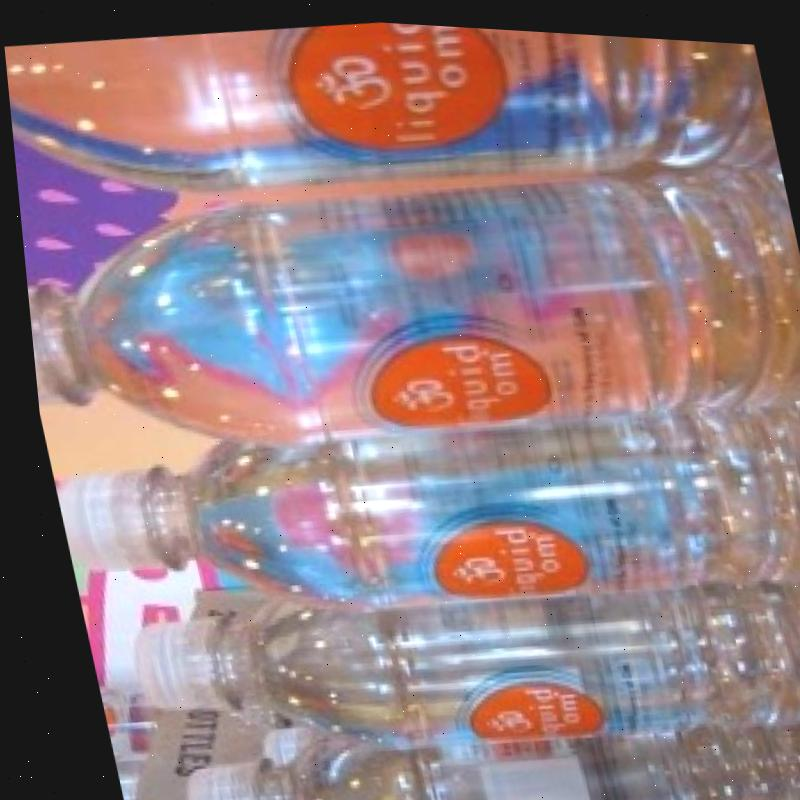botella: (8, 112, 800, 486), (31, 351, 800, 647), (0, 0, 784, 249), (104, 514, 800, 783), (148, 663, 800, 800), (241, 717, 308, 765)
